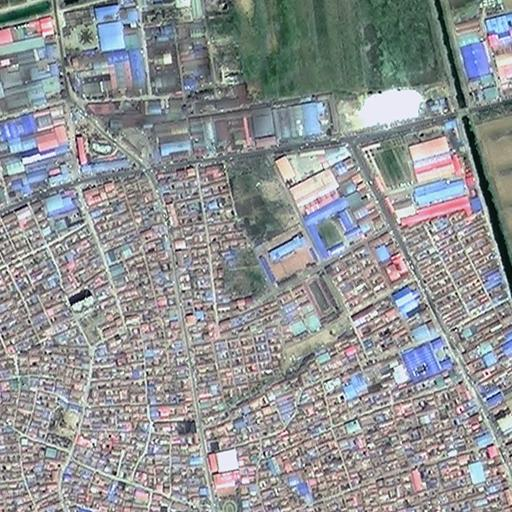school: (256, 226, 339, 324)
